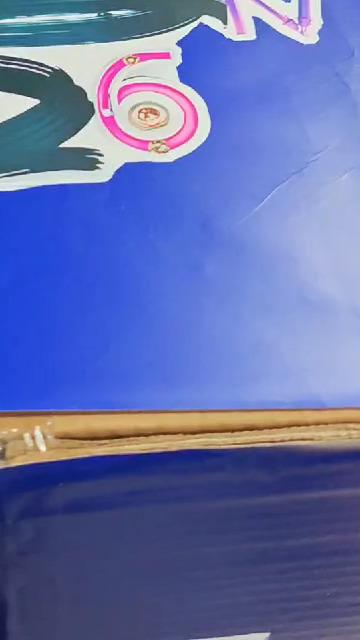B_R1: (0, 0, 347, 239)
